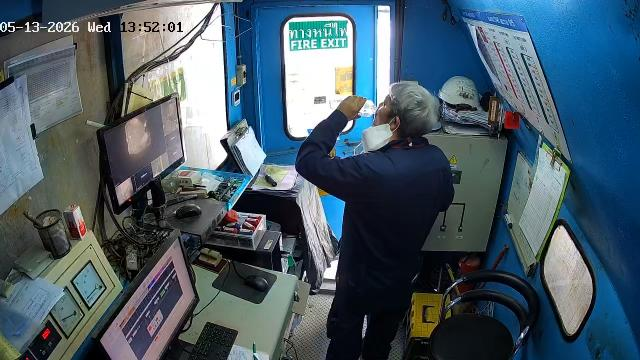Head: (373, 83, 438, 138)
People: (296, 83, 453, 359)
